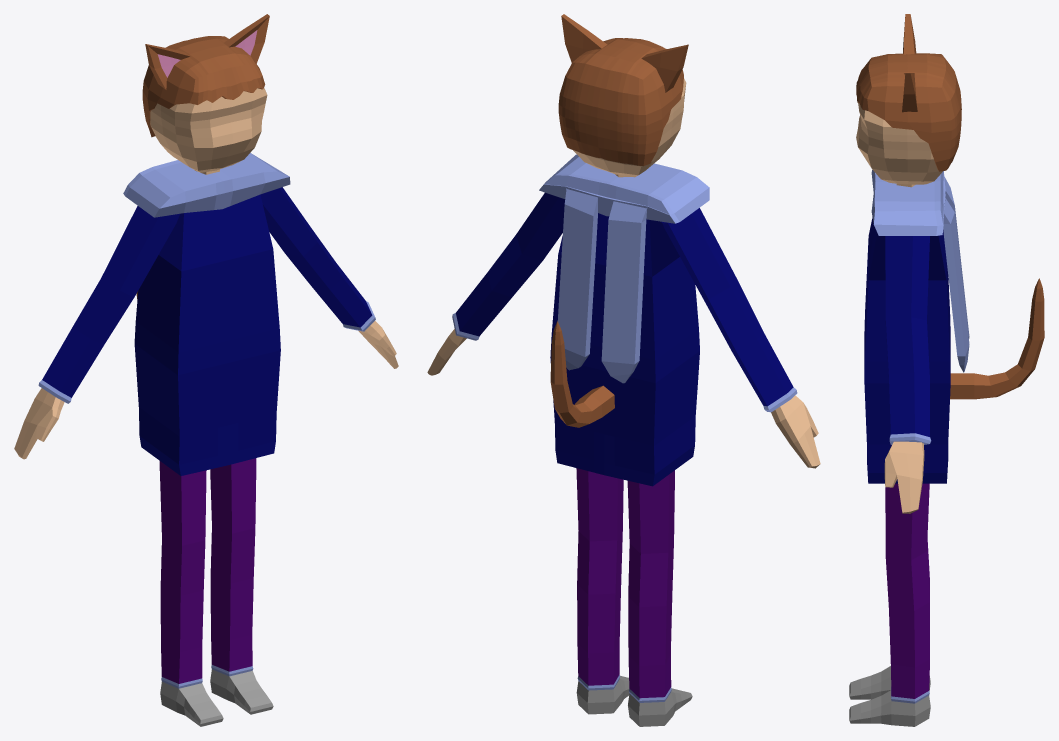
File: sange_low_poly.glb
3 renders of one model, left to right at view 1: azimuth 30°, elevation 25°; view 2: azimuth 150°, elevation 25°; view 3: azimuth 270°, elevation 25°, orthographic. The views are drawn at different scales.
Visible parts, largest first — view 1: Cube, Cylinder, Cylinder.001, Cube.001, Cube.002, Cube.004; view 2: Cube, Cylinder, Cylinder.001, Cube.002, Cylinder.003, Cube.004, Cube.001; view 3: Cube, Cylinder, Cylinder.001, Cube.002, Cube.001, Cylinder.003, Cube.004.
Boxes of the visible parts, bbox=[...] form: Cube: bbox=[123, 153, 290, 475]; Cylinder: bbox=[159, 458, 273, 726]; Cylinder.001: bbox=[14, 187, 398, 459]; Cube.001: bbox=[150, 88, 267, 172]; Cube.002: bbox=[142, 36, 265, 137]; Cube.004: bbox=[145, 14, 269, 89]; Cube: bbox=[539, 154, 709, 486]; Cylinder: bbox=[576, 468, 692, 726]; Cylinder.001: bbox=[427, 192, 820, 468]; Cube.002: bbox=[558, 38, 683, 166]; Cylinder.003: bbox=[550, 321, 614, 427]; Cube.004: bbox=[561, 14, 688, 92]; Cube.001: bbox=[573, 78, 686, 177]; Cube: bbox=[864, 170, 969, 483]; Cylinder: bbox=[849, 483, 930, 726]; Cylinder.001: bbox=[884, 236, 931, 513]; Cube.002: bbox=[856, 53, 961, 171]; Cube.001: bbox=[856, 103, 942, 184]; Cylinder.003: bbox=[950, 278, 1044, 399]; Cube.004: bbox=[902, 14, 917, 112].
Size of the model in its own units: 1.65 by 2.8 by 0.7456.
